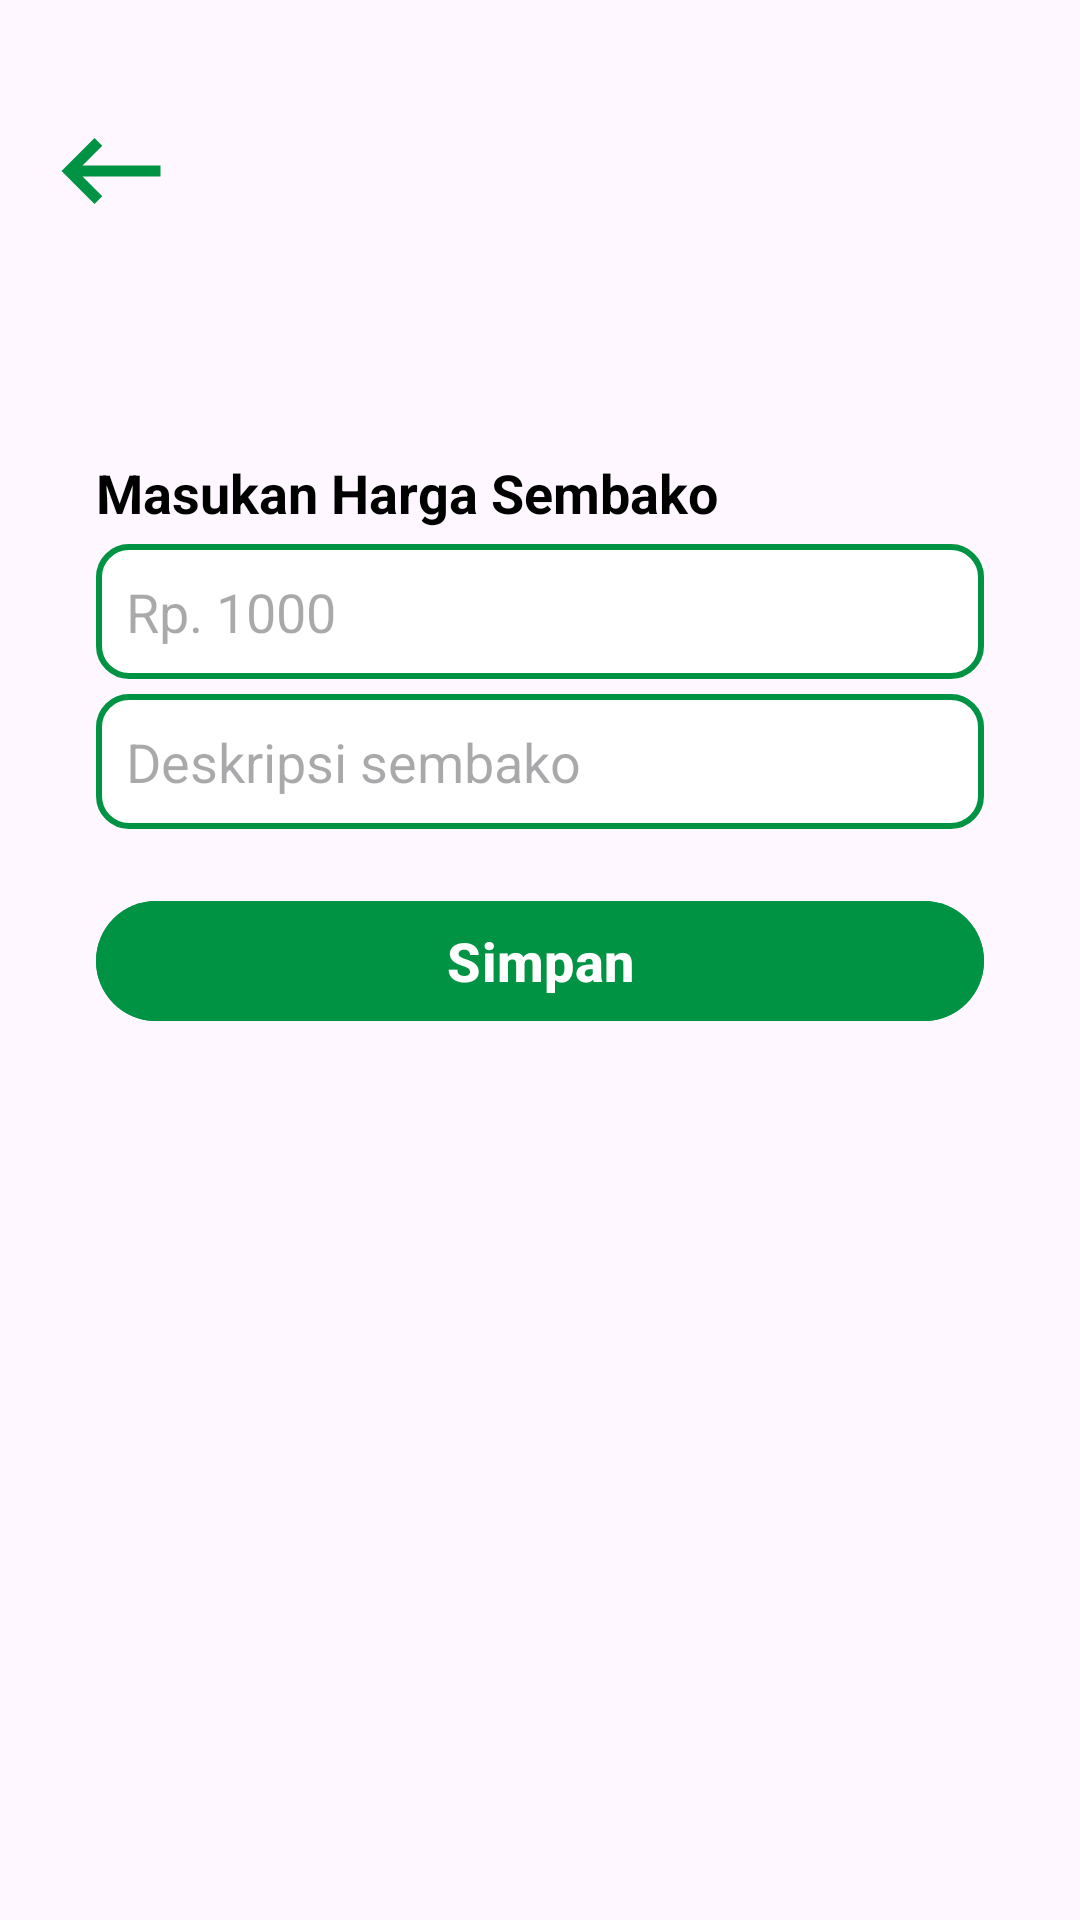

Icons on this 1080 x 1920 Android screen, each with the point to tap as (x,y):
keyboard backspace: (111,171)
